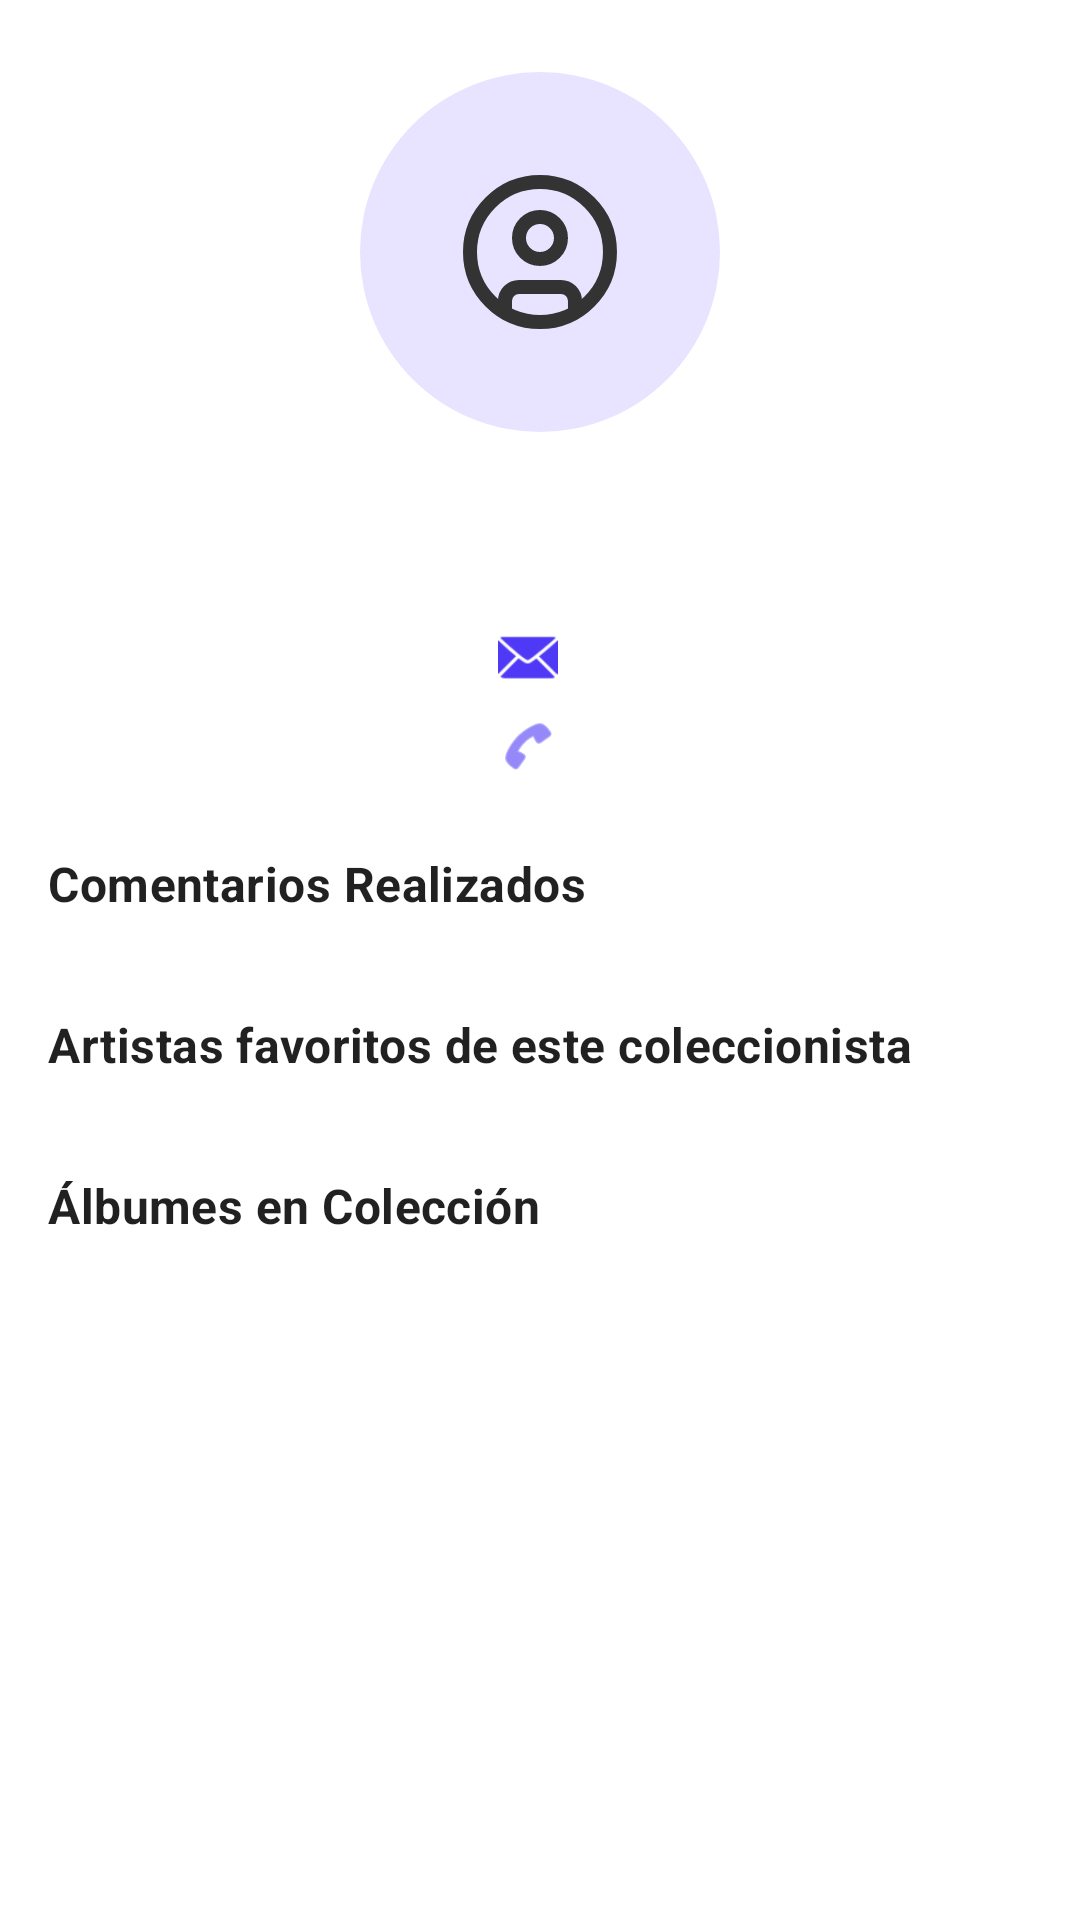

Icons on this 1080*1920 Android screen, each with the point to tap as (x=x, y=y):
Email icon: (x=528, y=657)
Imagen del coleccionista: (x=540, y=252)
Phone icon: (x=528, y=746)
